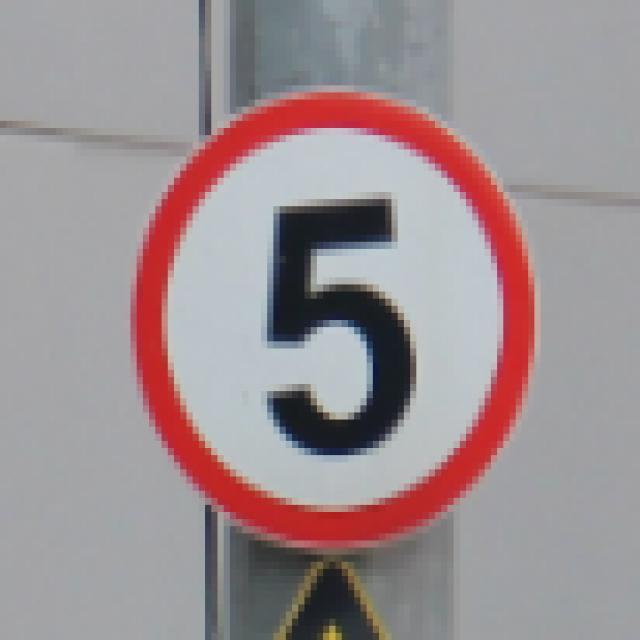Speed: (124, 80, 554, 554)
